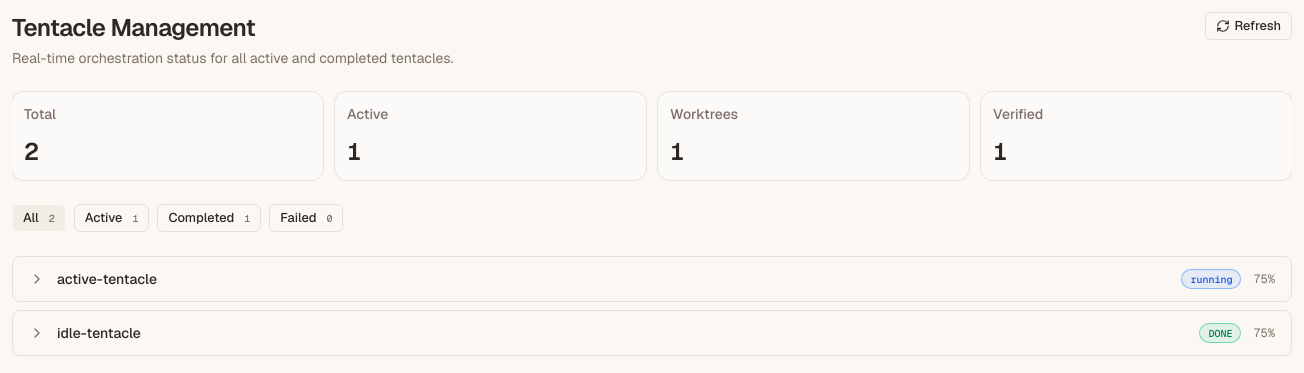
Test: TentaclesPage › filters to show only active tentacles
The image size is (1304, 373).
Click the button with test id "filter-active" at coordinates (112, 218), box [74,204,149,232]
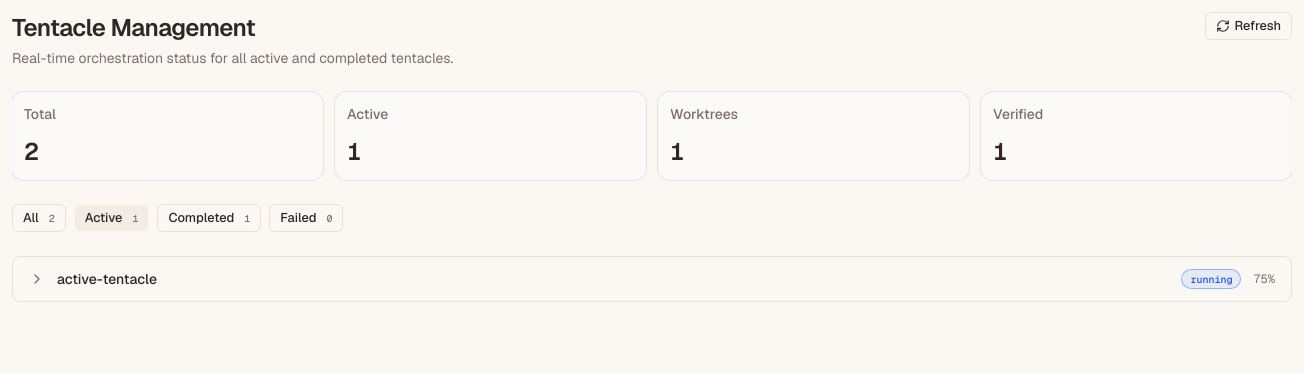
Expected: the text "active-tentacle" is shown, [57,270,157,288]
Expected: the button "idle-tentacle" is gone
